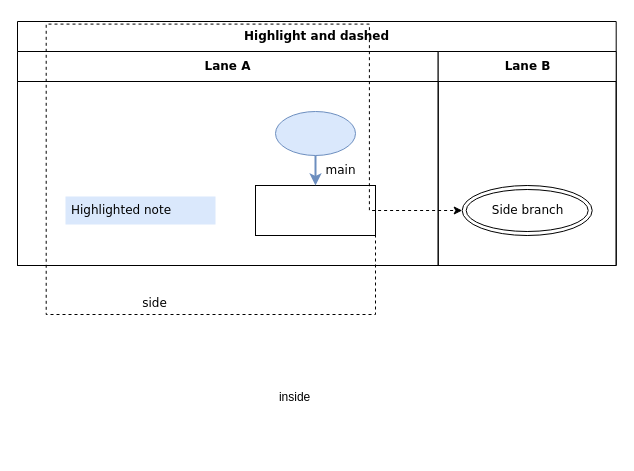
The diagram is 634 pixels wide and 471 high, and some of its shapes have lost their labels. The shapes that lost their labels are listed below. From the top down, each one's centre as x and y in pixels, then its label:
At [315,133]: "In".
At [315,210]: "Process".
